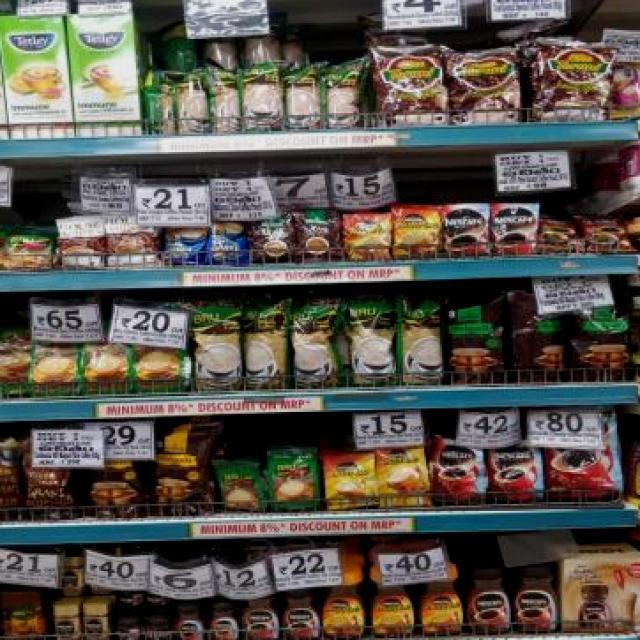Coffee: (546, 406, 620, 502), (370, 564, 416, 638), (378, 444, 430, 507), (436, 438, 484, 506), (322, 565, 366, 639), (420, 565, 464, 637), (492, 439, 540, 502), (514, 566, 558, 634), (468, 565, 510, 635), (325, 454, 373, 508), (444, 205, 489, 258), (493, 204, 536, 256), (393, 207, 438, 256), (344, 214, 391, 258), (281, 588, 320, 640), (243, 588, 279, 640), (175, 601, 207, 640), (210, 601, 239, 640), (59, 556, 84, 598), (84, 603, 110, 640), (53, 604, 79, 640), (116, 586, 142, 609), (146, 586, 170, 609), (146, 619, 172, 640), (115, 619, 141, 640)
